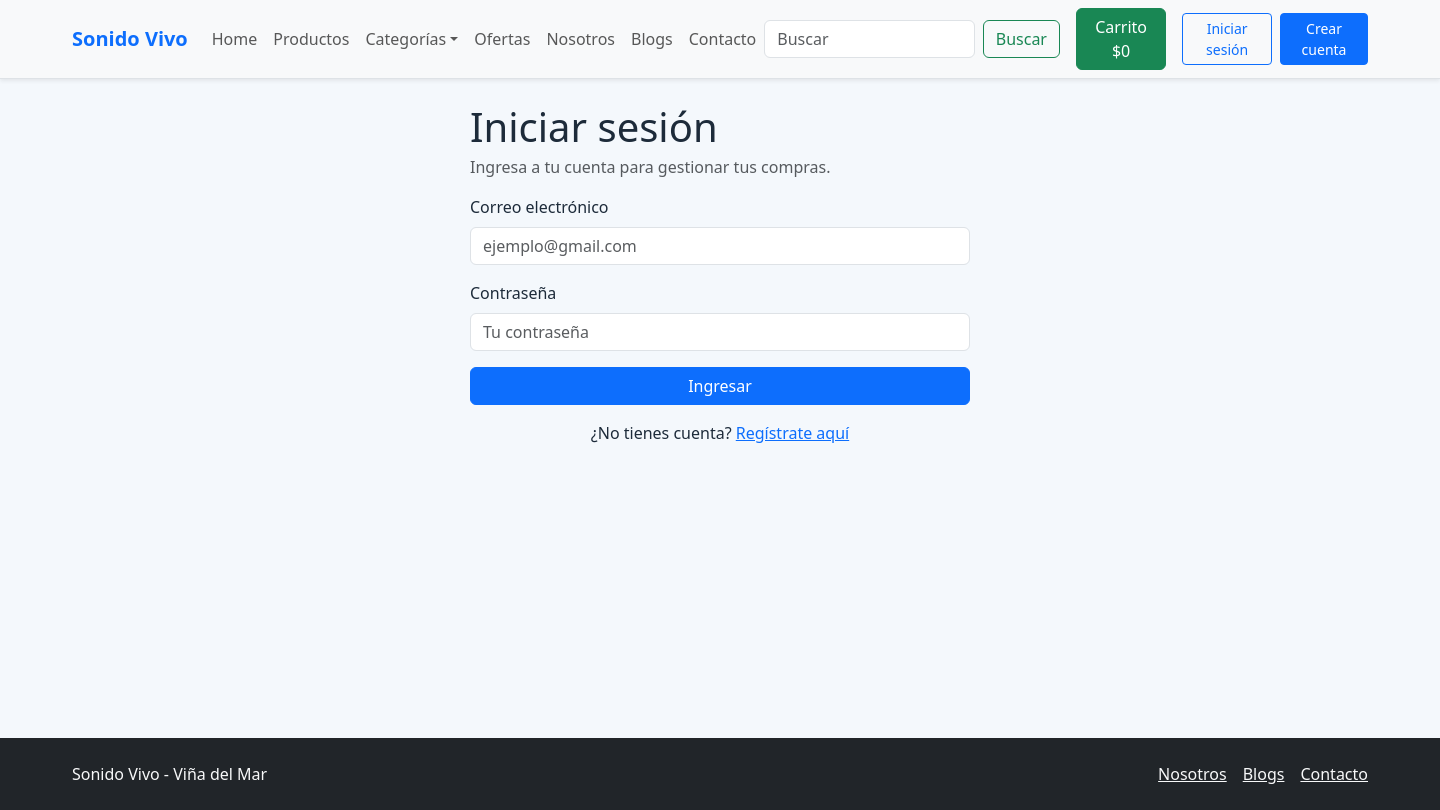
Test: Login › con una contraseña incorrecta muestra el error general
This screenshot has width=1440, height=810.
Step 1. Type "javi@gmail.com" into the field labelled "Correo electrónico" → point(720, 246), box 470,227 -> 970,265
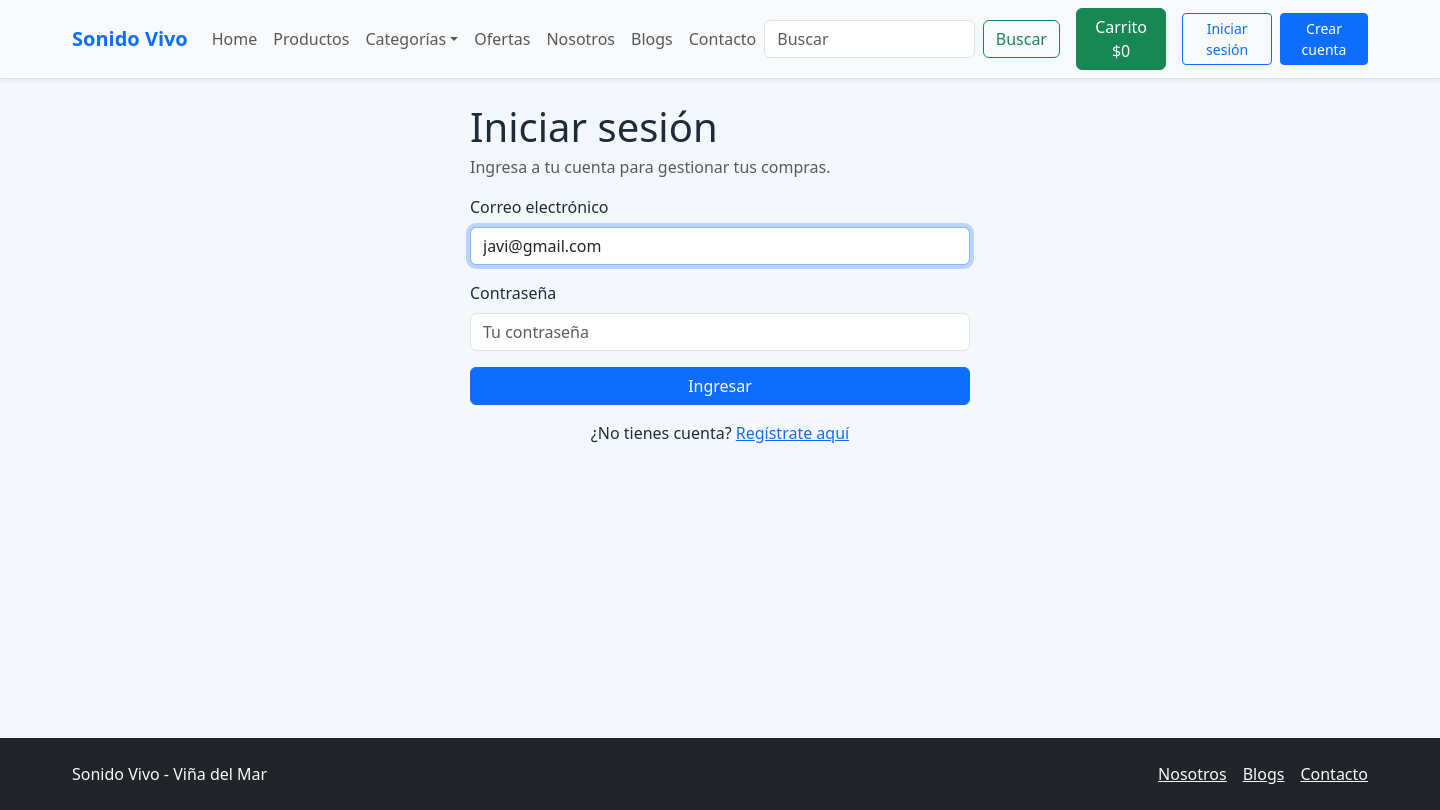
Step 2. Type "equivocada" into the password field labelled "Contraseña" → point(720, 332), box 470,313 -> 970,351
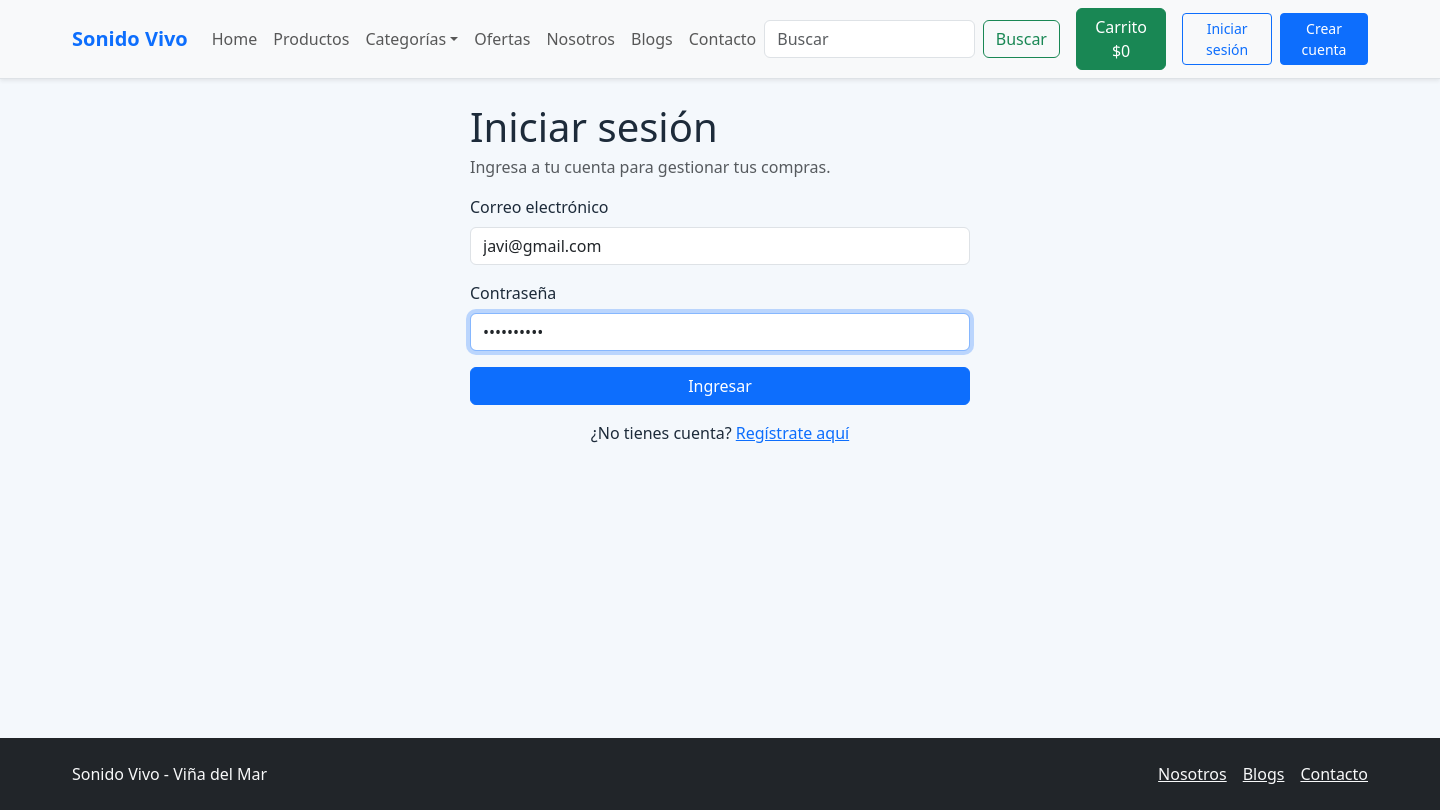
Step 3. Click the button "Ingresar" → point(720, 386), box 470,367 -> 970,405
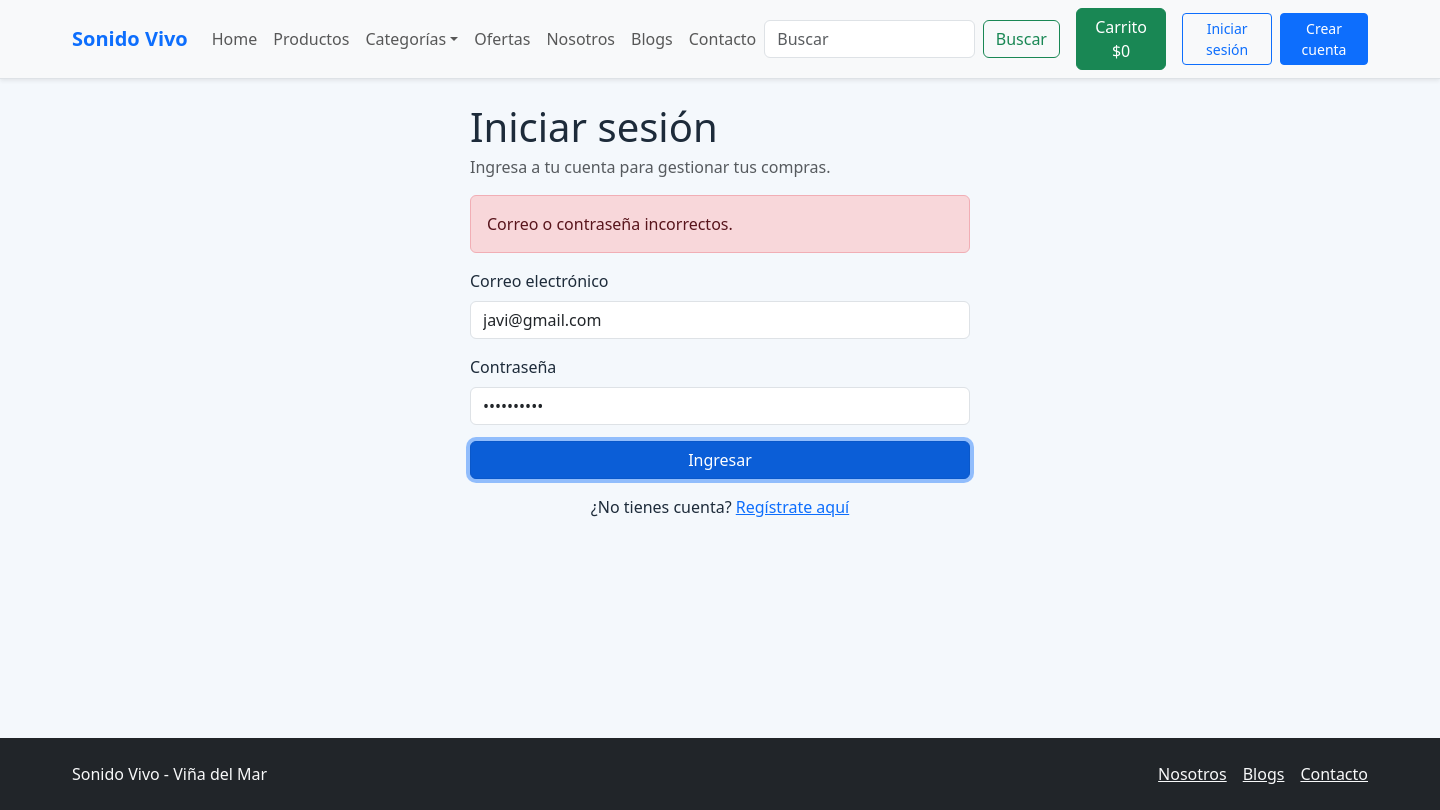
Result: the text "Correo o contraseña incorrectos." is shown at 470,195 -> 970,253
